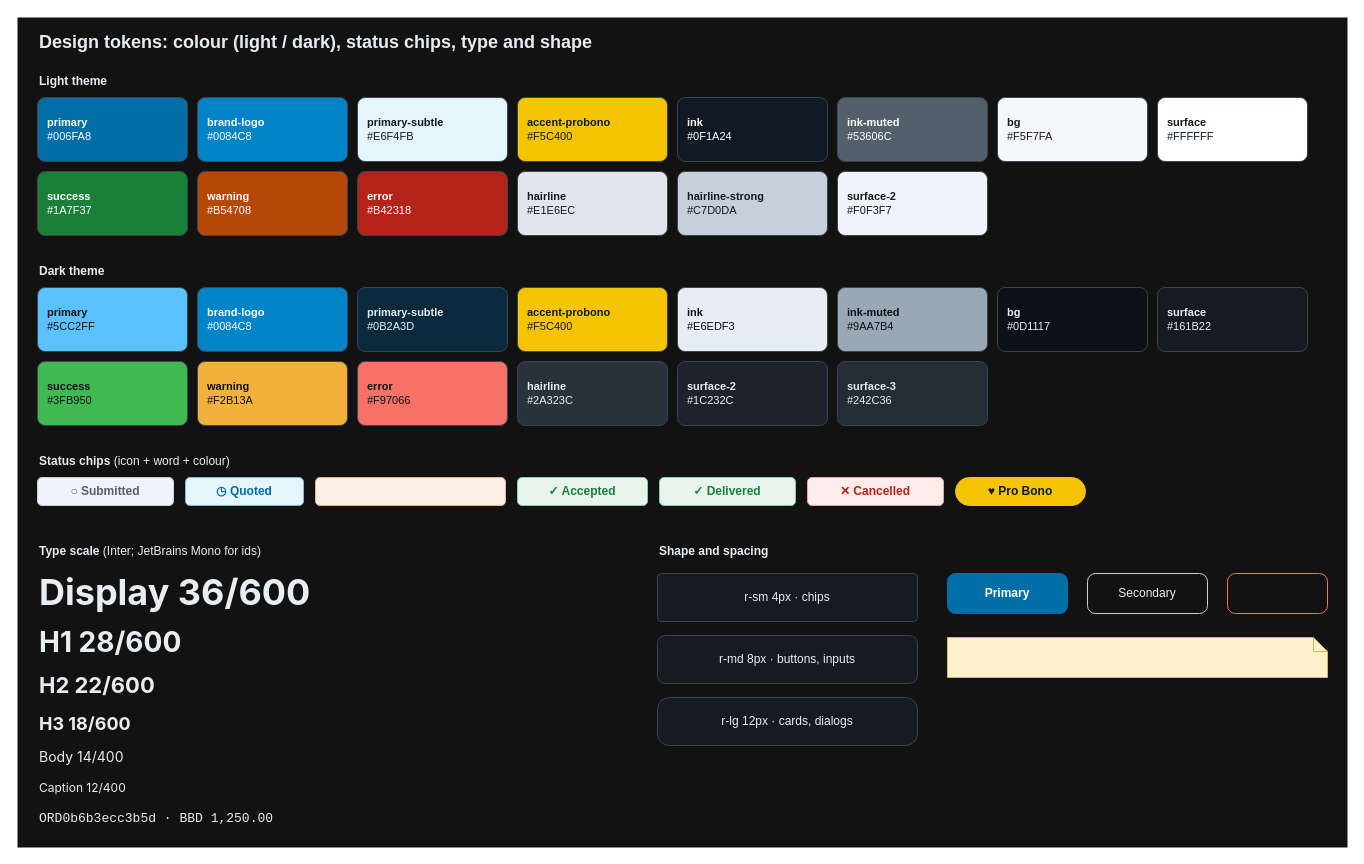
Image size: 1364x864. Some labels were removed from this diagram. Here are the shapes that lost their labels. From the top down, the box of each, then its label:
(314, 476, 506, 506): ⚠ Awaiting agreement
(1226, 572, 1328, 614): Danger
(946, 636, 1328, 678): Spacing: 4 · 8 · 12 · 16 · 20 · 24 · 32 · 40 · 48 · 64 px (base 4)
